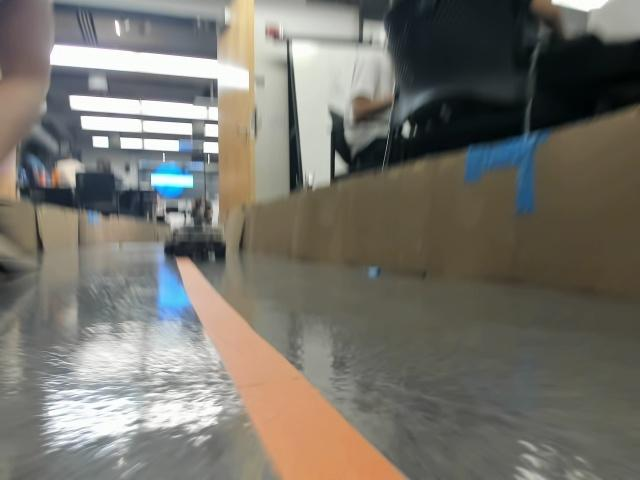Car: (173, 215, 227, 259)
